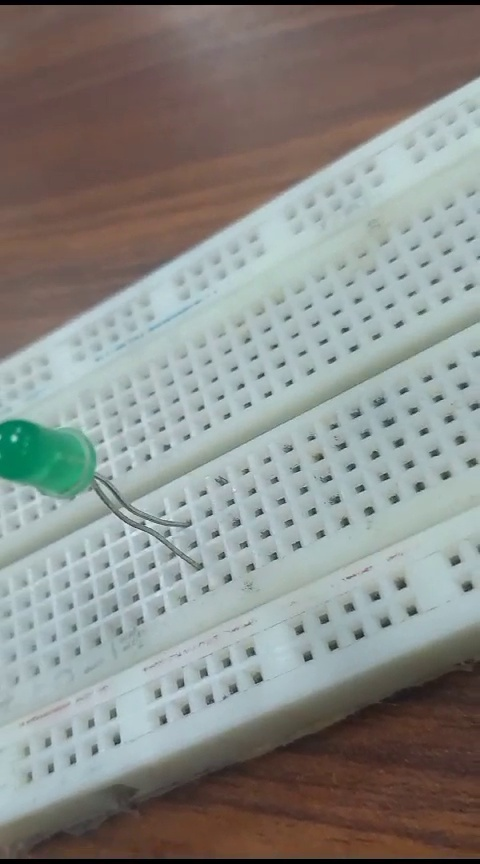LED: (6, 411, 192, 579)
